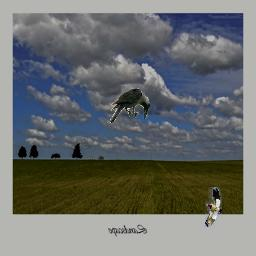Crow: (110, 88, 150, 123)
Woodpecker: (205, 187, 222, 227)
